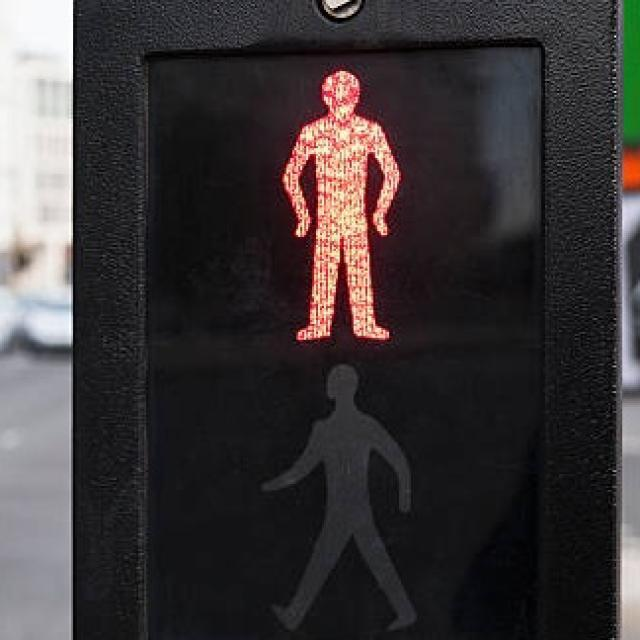red-crossing: (258, 51, 412, 359)
